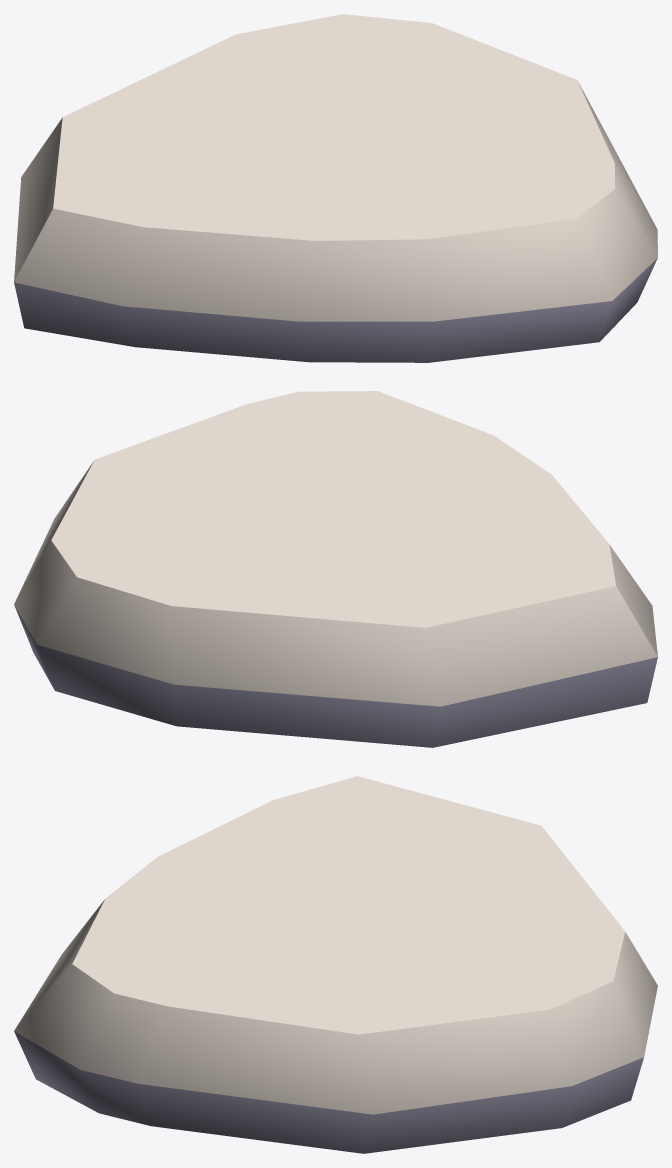
The model's file is roca2.fbx.
3 renders of one model, top to bottom at view 1: azimuth 30°, elevation 25°; view 2: azimuth 150°, elevation 25°; view 3: azimuth 270°, elevation 25°, orthographic.
Parts seen in each view (by area): view 1: roca2; view 2: roca2; view 3: roca2.
Boxes of the visible parts, x1,y1,x2,y2 form: roca2: (14, 14, 657, 362); roca2: (14, 391, 657, 747); roca2: (14, 776, 657, 1153).
Size of the model in its own units: 125 by 22.17 by 115.
